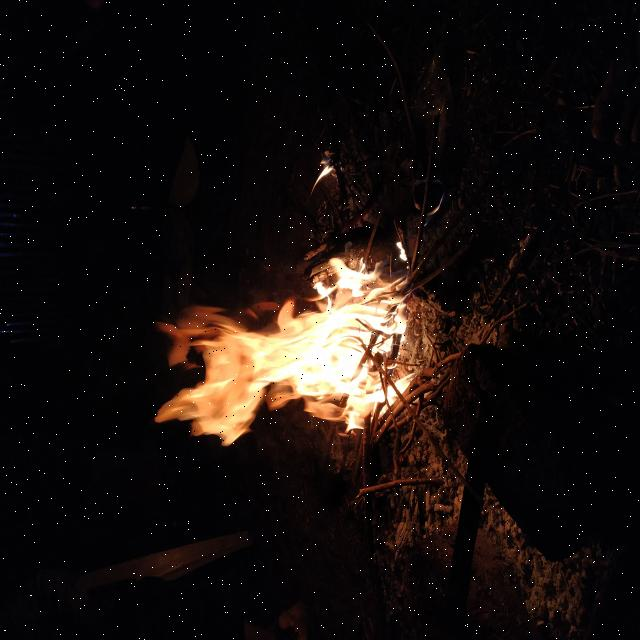fire: (155, 248, 436, 452)
